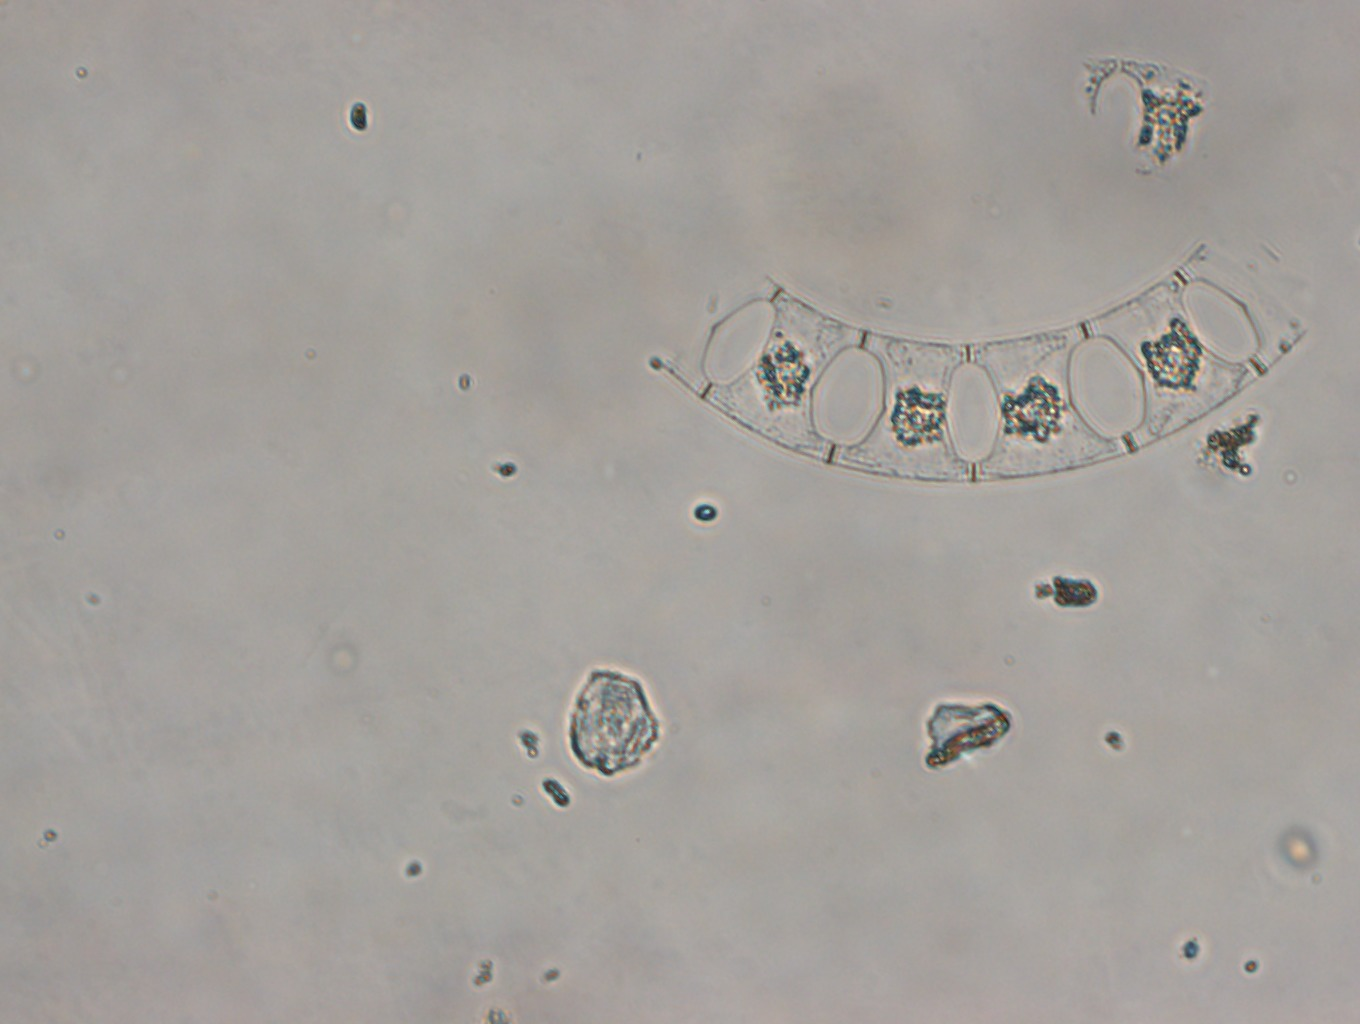eucampia: (661, 221, 1314, 490)
